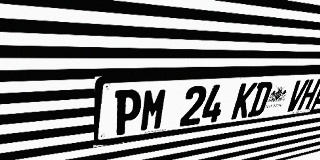2: (179, 85, 208, 127)
4: (200, 84, 228, 124)
D: (247, 82, 274, 117)
H: (297, 79, 320, 111)
K: (230, 82, 258, 120)
M: (139, 87, 169, 132)
P: (113, 89, 143, 136)
V: (284, 79, 310, 112)
